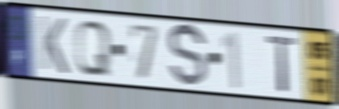1: (221, 30, 241, 90)
7: (128, 21, 159, 82)
K: (36, 13, 70, 77)
Q: (73, 18, 112, 78)
S: (167, 22, 209, 91)
T: (266, 34, 299, 95)
